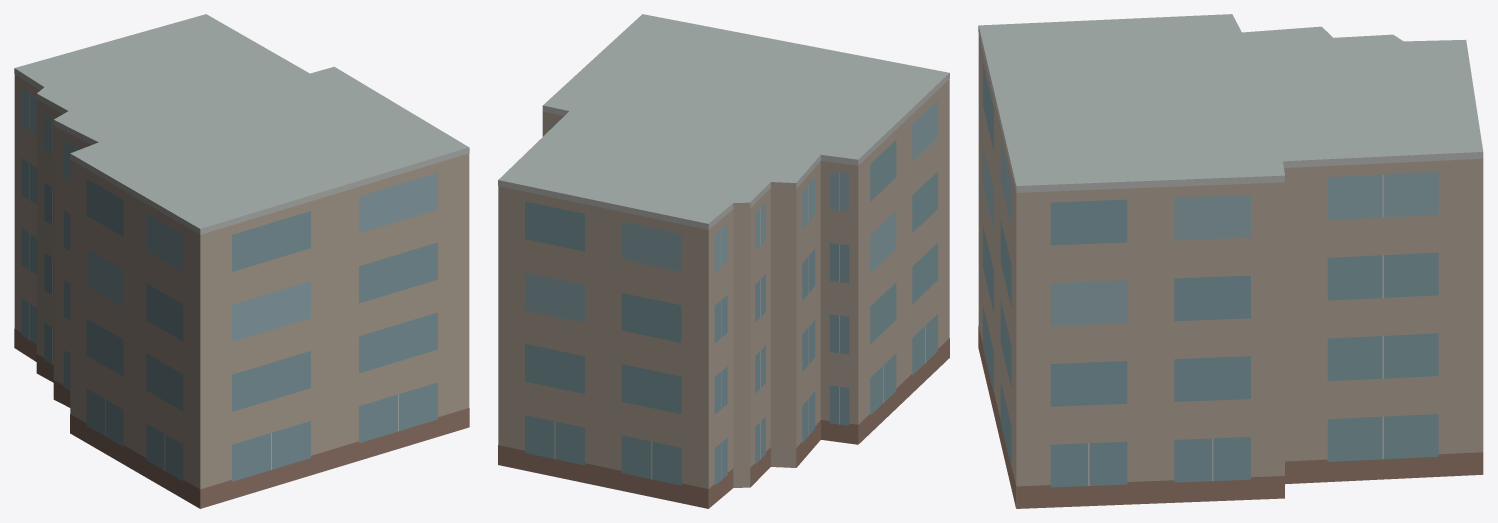
The model's file is survey-upis-32743562.glb.
3 renders of one model, left to right at view 1: azimuth 30°, elevation 25°; view 2: azimuth 150°, elevation 25°; view 3: azimuth 270°, elevation 25°, orthographic. The views are drawn at different scales.
Visible parts, largest first — view 1: survey-upis-32743562.tmp; view 2: survey-upis-32743562.tmp; view 3: survey-upis-32743562.tmp.
Boxes of the visible parts, x1,y1,x2,y2 form: survey-upis-32743562.tmp: (14,14,469,508); survey-upis-32743562.tmp: (498,14,949,508); survey-upis-32743562.tmp: (978,14,1483,508).
Bounding box in the file's own units: 13.27 × 11.6 × 16.45.
